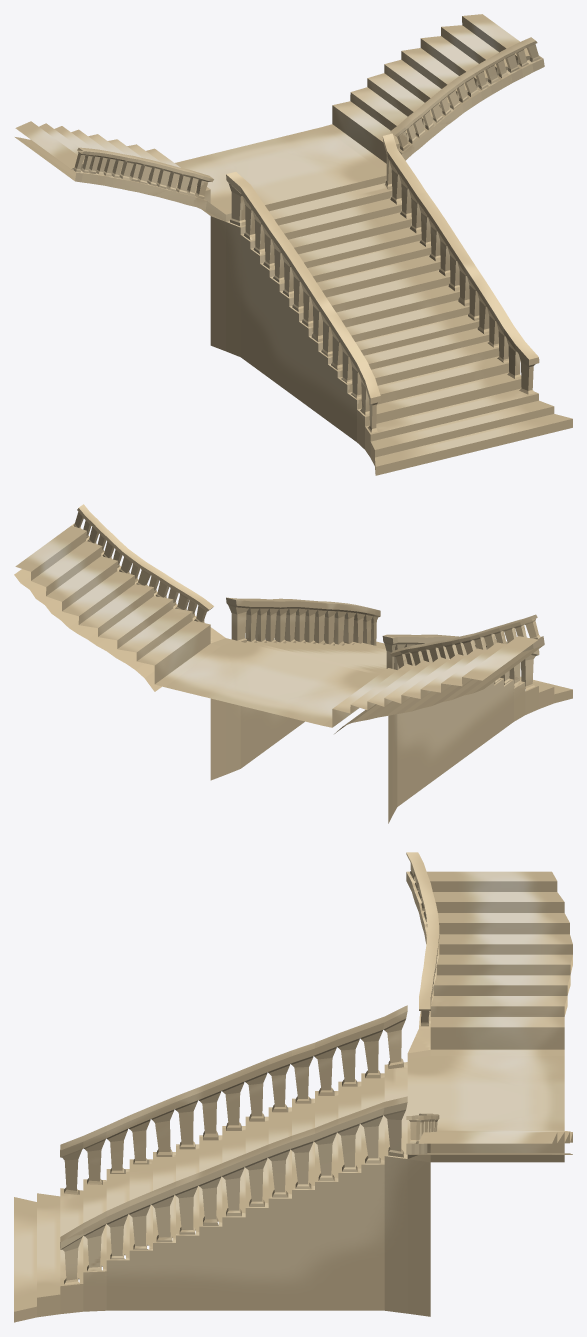
Rendered from Escadacomtextura.fbx.
The picture shows the model from 3 angles, top to bottom: view 1: azimuth 30°, elevation 25°; view 2: azimuth 150°, elevation 25°; view 3: azimuth 270°, elevation 25°; orthographic projection. The views are drawn at different scales.
Visible parts, largest first — view 1: Plane; view 2: Plane; view 3: Plane.
Part boxes in pixels (bbox=[...]): Plane: bbox=[15, 14, 572, 475]; Plane: bbox=[14, 504, 572, 823]; Plane: bbox=[14, 852, 572, 1322].
Size of the model in its own units: 1064 by 510 by 919.
